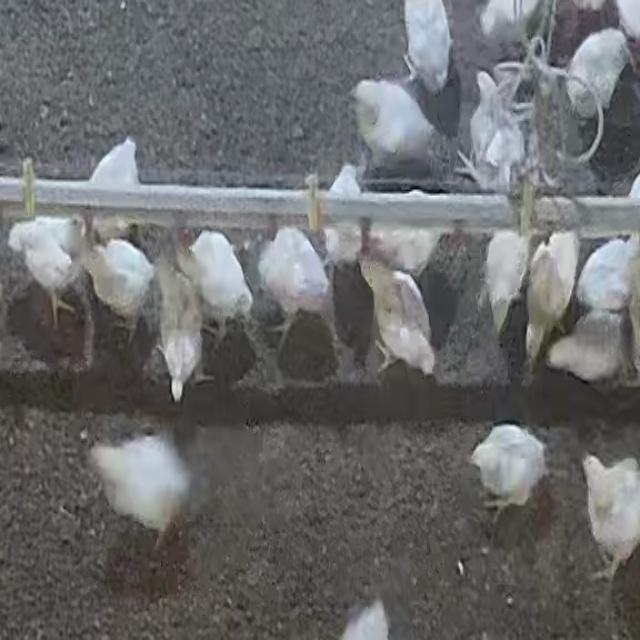chicken: (90, 430, 191, 539), (358, 260, 439, 380), (7, 216, 87, 332), (77, 231, 155, 340), (180, 229, 255, 341), (152, 239, 203, 403), (522, 232, 580, 372), (257, 226, 333, 332), (353, 72, 438, 165), (581, 452, 640, 580), (470, 422, 549, 514), (463, 71, 522, 191), (544, 306, 630, 385), (84, 140, 147, 242), (566, 30, 631, 114), (481, 230, 528, 342), (370, 213, 452, 273), (320, 162, 366, 267), (575, 237, 635, 316), (405, 2, 453, 96), (480, 0, 542, 46)
